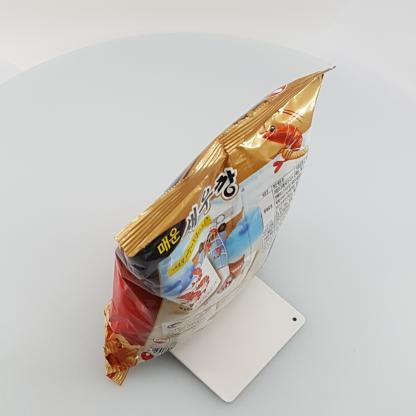Plastic Packaging: (98, 57, 342, 394)
